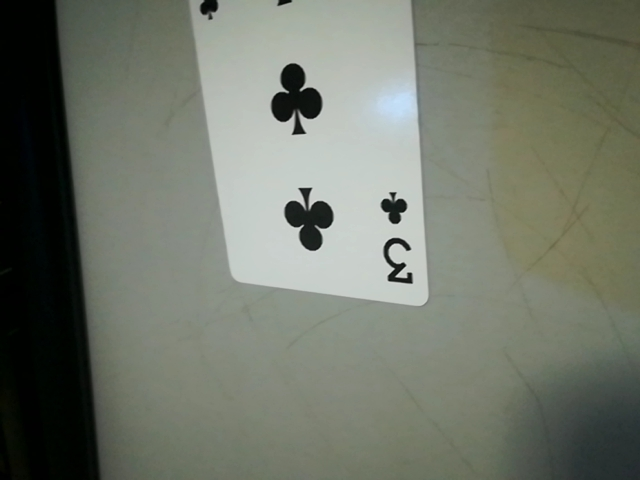mh 3: (369, 187, 428, 299)
